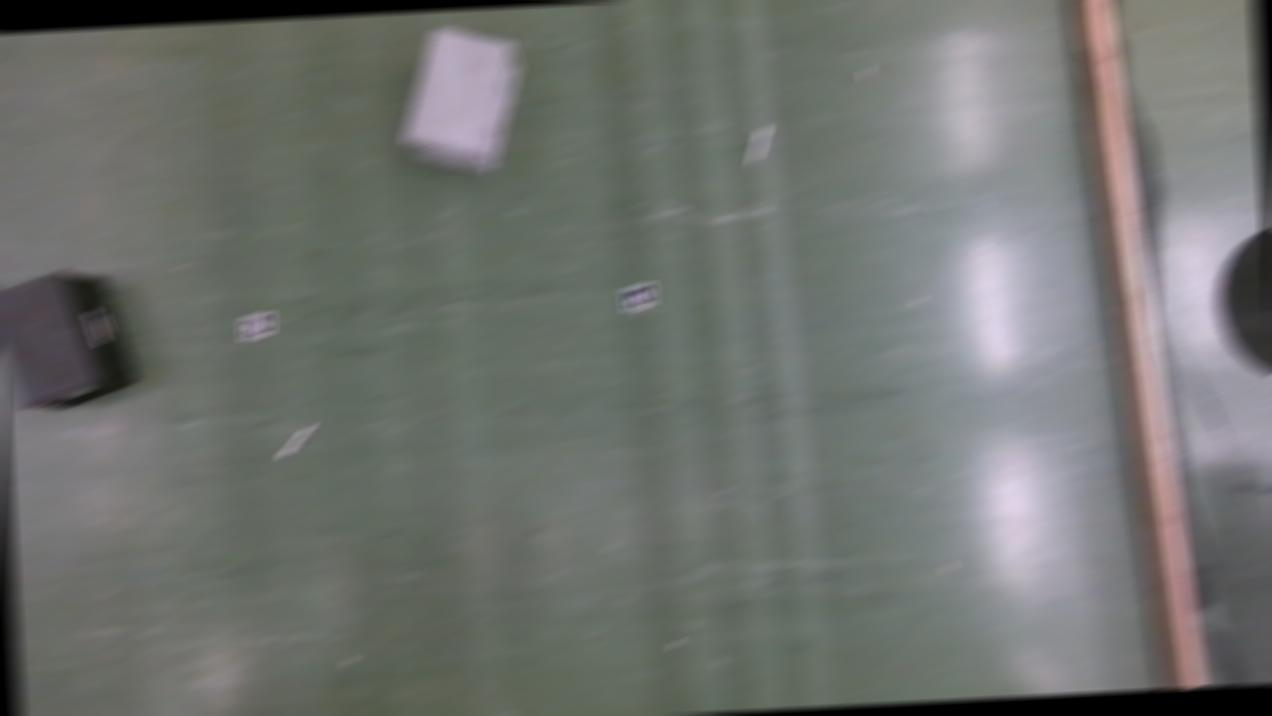probes: (279, 425, 314, 458), (748, 128, 769, 164)
rako: (0, 268, 138, 413), (396, 25, 526, 178)
